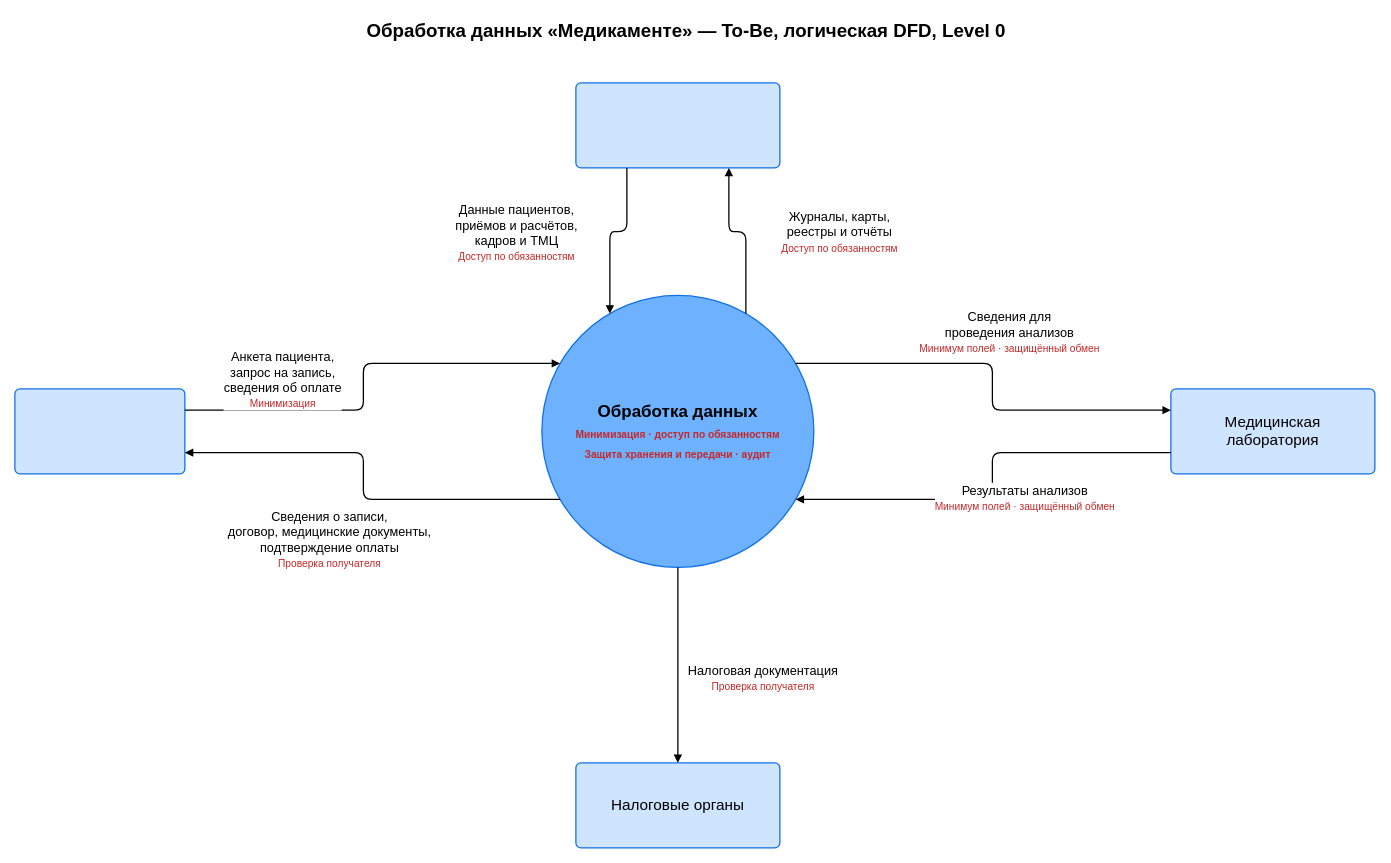
The diagram is 1391 pixels wide and 863 high, and some of its shapes have lost their labels. Here are the shapes that lost their labels. From the top down, the centre of each, then its label:
At point (677, 125): "Сотрудники".
At point (99, 431): "Пациент".
